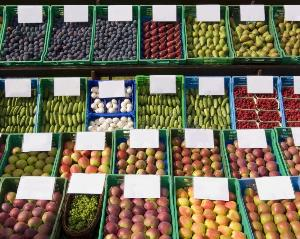apple: (172, 178, 252, 238), (102, 178, 172, 238), (0, 175, 58, 239), (242, 180, 300, 238), (168, 129, 226, 177), (111, 129, 167, 175), (1, 133, 60, 176), (227, 132, 279, 176), (59, 133, 110, 175), (278, 132, 300, 176)
grape: (63, 178, 101, 234)
pear: (228, 4, 278, 56), (184, 10, 232, 58), (140, 11, 184, 58), (274, 14, 300, 60)
